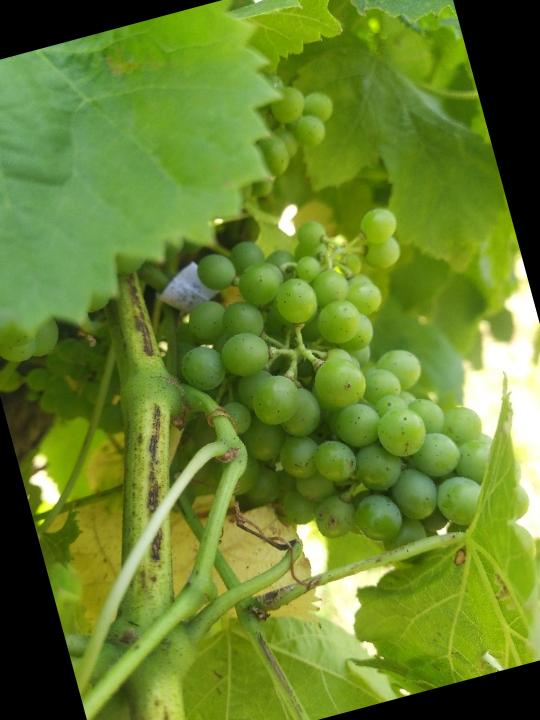grape: (125, 187, 540, 639)
